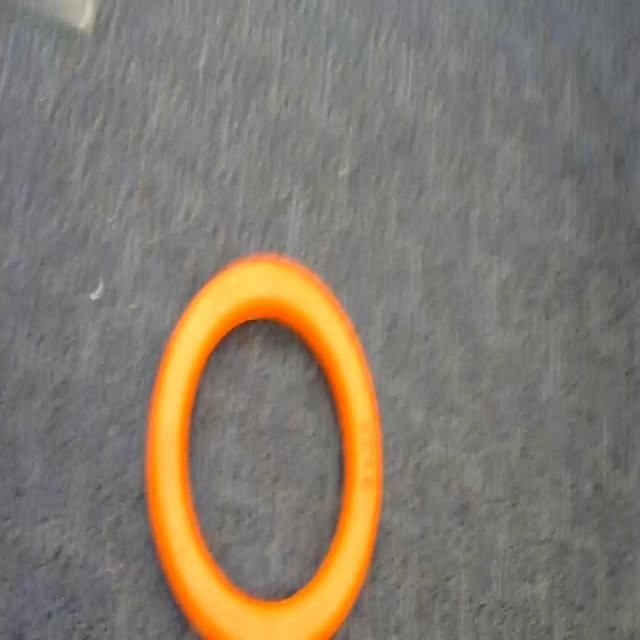note: (132, 241, 396, 640)
